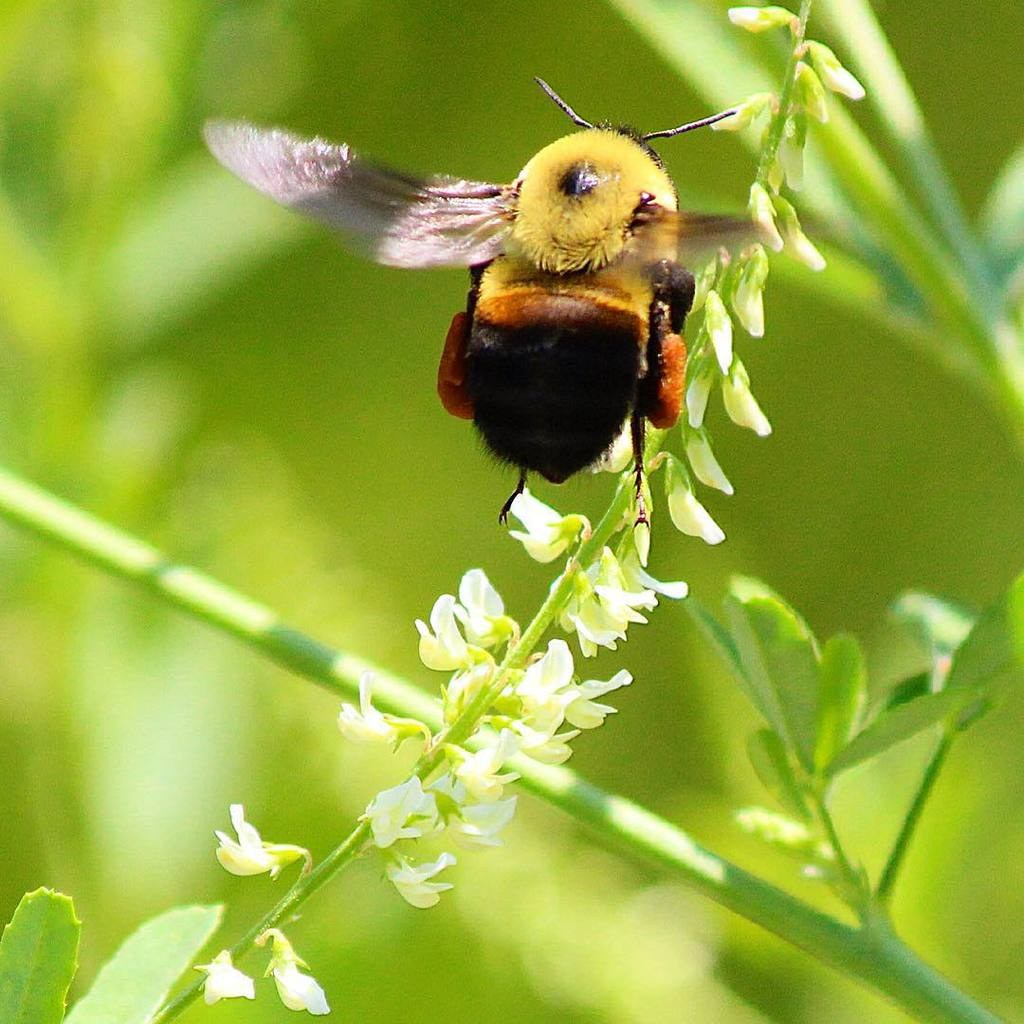bee: (193, 83, 777, 519)
